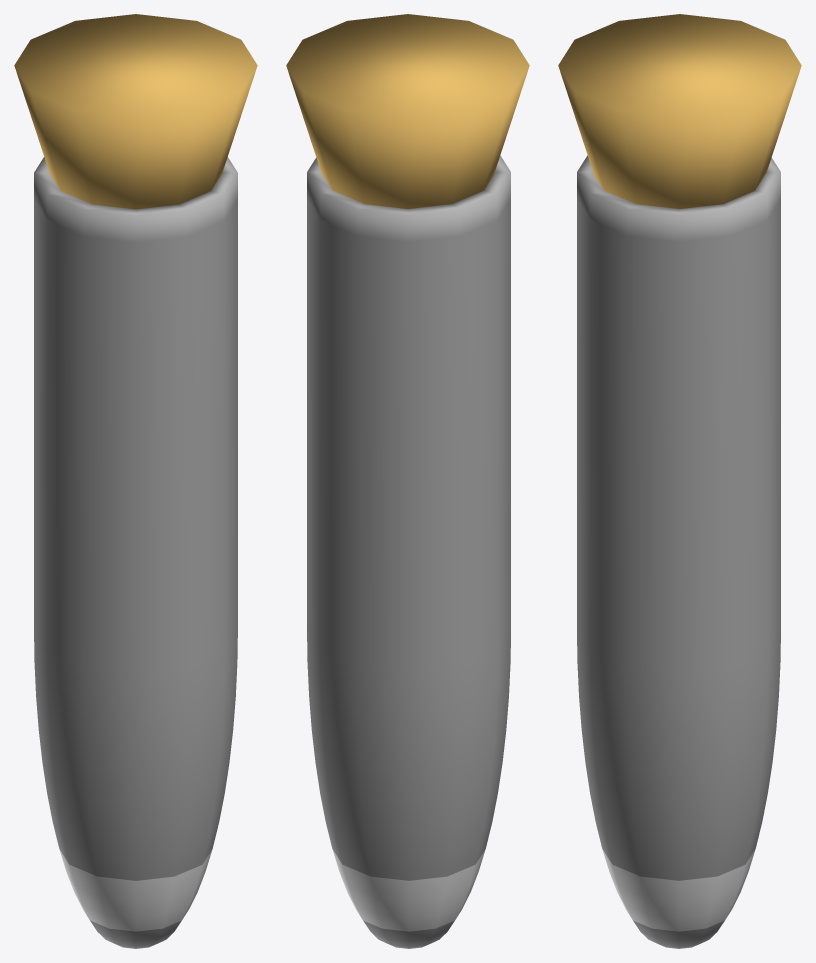
Rendered from FrascoPó.fbx.
The picture shows the model from 3 angles, left to right: view 1: azimuth 30°, elevation 25°; view 2: azimuth 150°, elevation 25°; view 3: azimuth 270°, elevation 25°; orthographic projection.
Parts seen in each view (by area): view 1: FrascoPó; view 2: FrascoPó; view 3: FrascoPó.
Boxes of the visible parts, x1,y1,x2,y2 form: FrascoPó: [14, 14, 257, 948]; FrascoPó: [286, 14, 529, 948]; FrascoPó: [558, 14, 801, 948].
Size of the model in its own units: 90.29 by 358 by 90.29.
